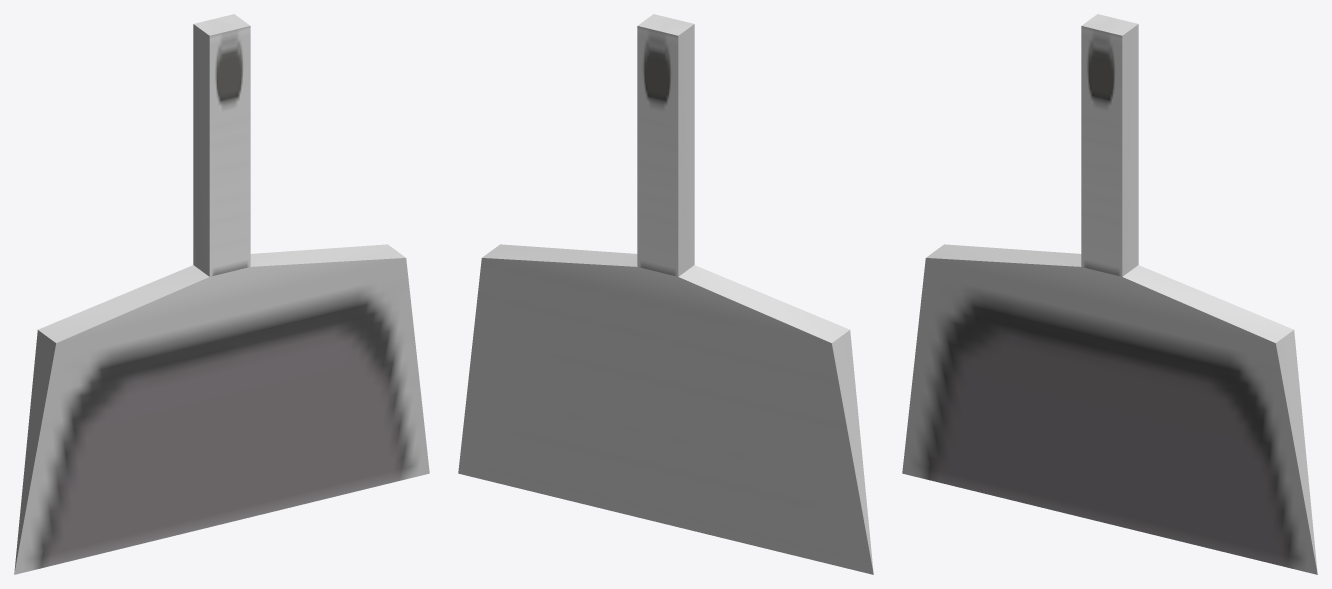
Rendered from DustPan.fbx.
3 renders of one model, left to right at view 1: azimuth 30°, elevation 25°; view 2: azimuth 150°, elevation 25°; view 3: azimuth 330°, elevation 25°, orthographic.
Parts seen in each view (by area): view 1: Maya_File_Assets:TexturedAssetsCurrent:JohnPepper02Assets:Du; view 2: Maya_File_Assets:TexturedAssetsCurrent:JohnPepper02Assets:Du; view 3: Maya_File_Assets:TexturedAssetsCurrent:JohnPepper02Assets:Du.
Part boxes in pixels (x1,y1,x2,y2): Maya_File_Assets:TexturedAssetsCurrent:JohnPepper02Assets:Du: (14,14,429,574); Maya_File_Assets:TexturedAssetsCurrent:JohnPepper02Assets:Du: (458,14,873,574); Maya_File_Assets:TexturedAssetsCurrent:JohnPepper02Assets:Du: (902,14,1317,574).
Size of the model in its own units: 0.3531 by 0.4054 by 0.0271.
